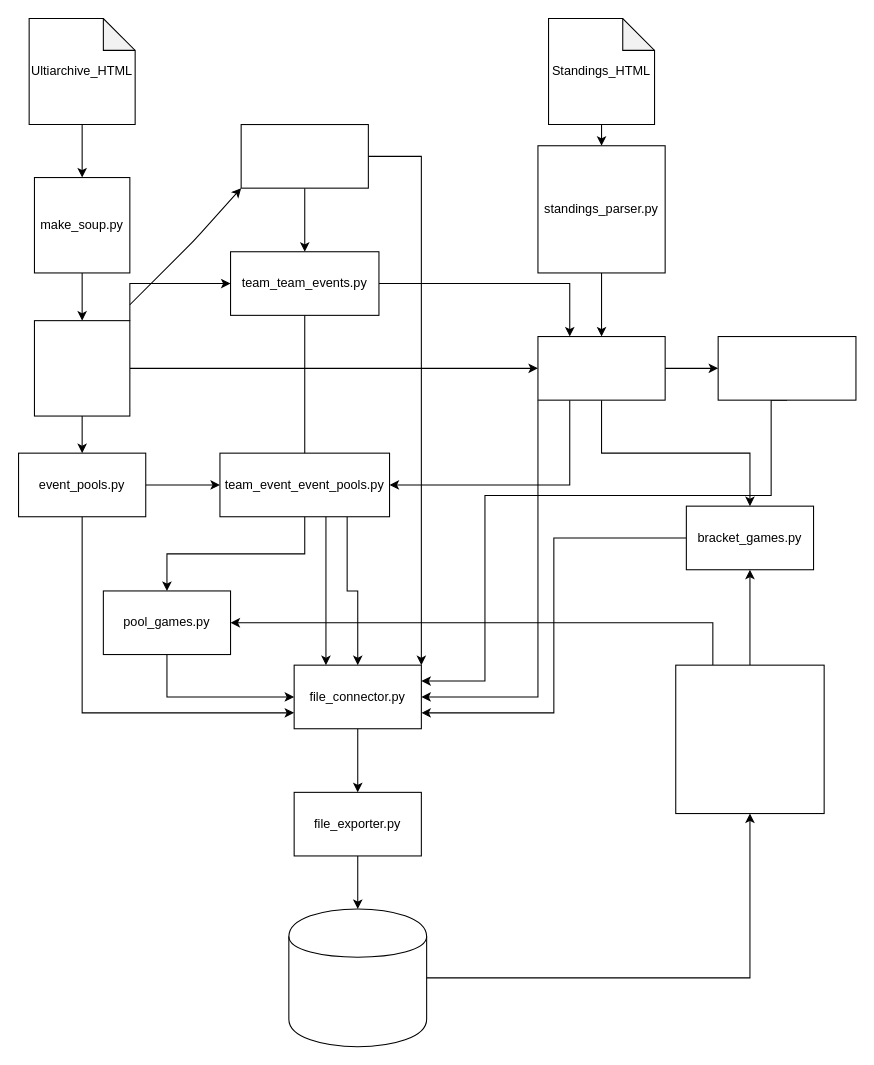
The diagram is 874 pixels wide and 1065 high, and some of its shapes have lost their labels. Here are the shapes that lost their labels. From the top down, the centre of each, then its label:
the point at 304,155: teams.py
the point at 81,368: event_info.py
the point at 601,367: team_events.py
the point at 786,367: team_event_events.py
the point at 749,739: event_day_connector.py
the point at 357,977: MySQL DB
